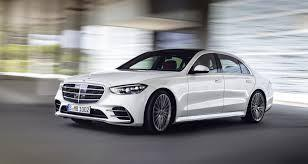mercedes: (83, 71, 97, 80)
